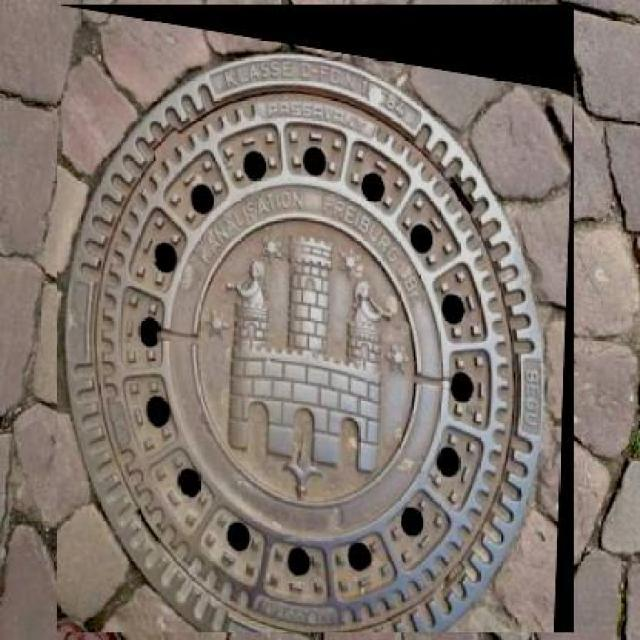Manhole: (57, 5, 574, 632)
